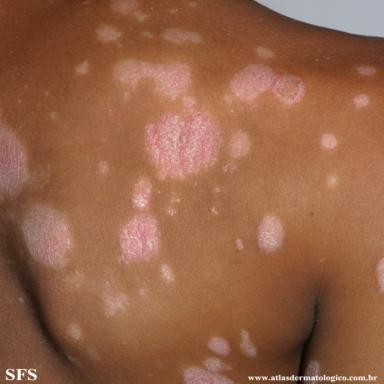Psoriasis: (115, 61, 222, 179), (118, 174, 165, 264), (224, 63, 306, 105), (22, 205, 74, 267), (0, 125, 29, 202), (255, 213, 286, 255), (100, 278, 132, 318), (223, 130, 250, 174), (184, 367, 235, 384), (112, 0, 148, 21), (164, 29, 202, 43), (240, 330, 257, 357), (208, 337, 230, 357), (158, 262, 177, 285), (96, 25, 121, 42), (204, 358, 232, 373), (320, 133, 340, 152), (166, 193, 181, 216), (351, 93, 371, 110), (66, 322, 83, 341), (67, 354, 84, 373), (254, 46, 275, 60), (305, 361, 322, 376), (97, 160, 112, 177), (326, 173, 340, 189), (376, 260, 383, 291), (86, 347, 101, 361), (355, 66, 376, 75), (75, 61, 89, 74), (141, 31, 153, 38), (236, 238, 243, 250), (210, 205, 218, 215)
